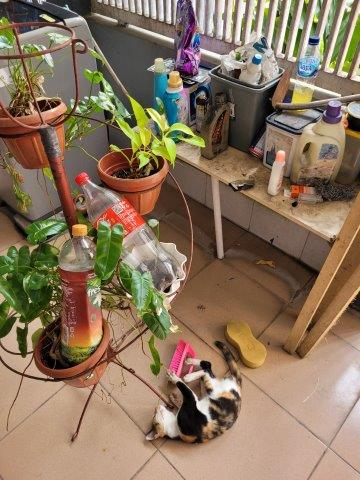botolplastik: (79, 174, 181, 289), (58, 224, 103, 358), (292, 37, 321, 105)
